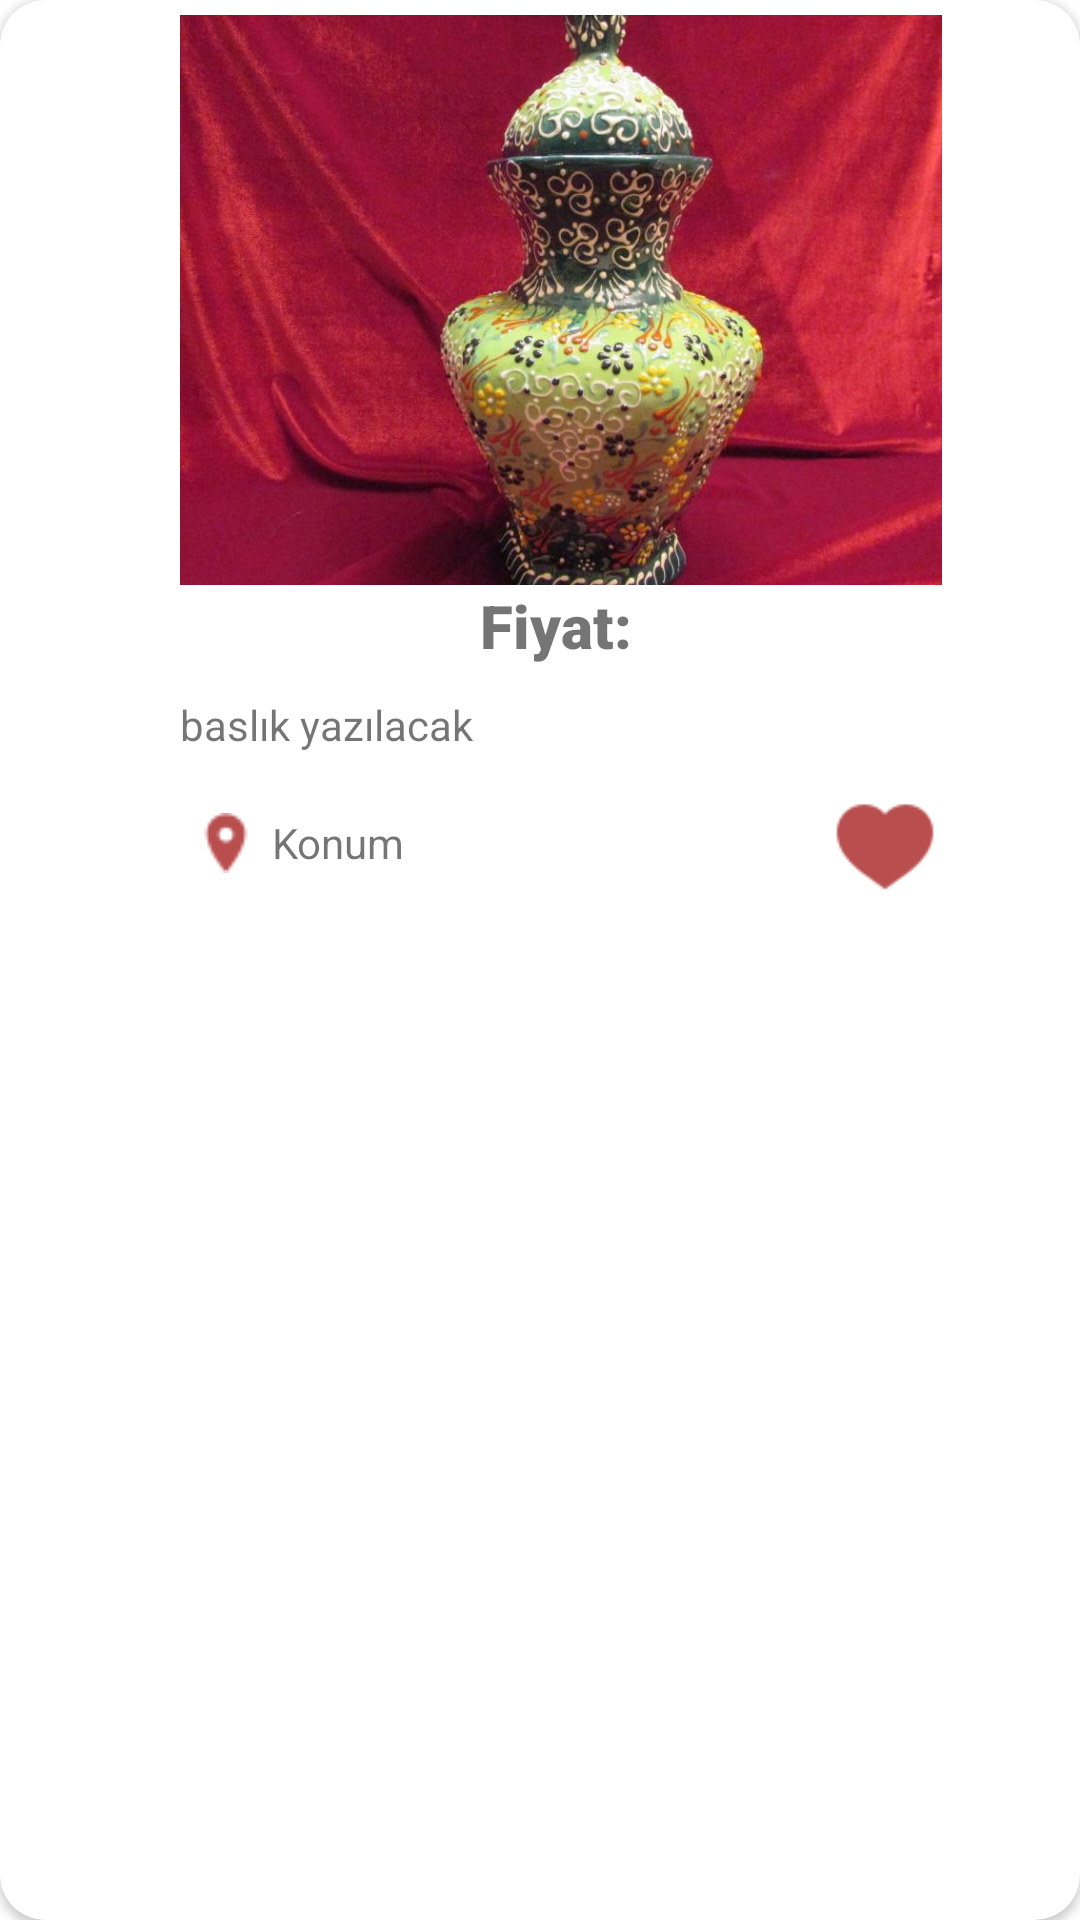

Screen size 1080 x 1920. Icon name, then its box in pixels as box(x1, y1, x2, y2):
favorite: box(836, 804, 934, 890)
